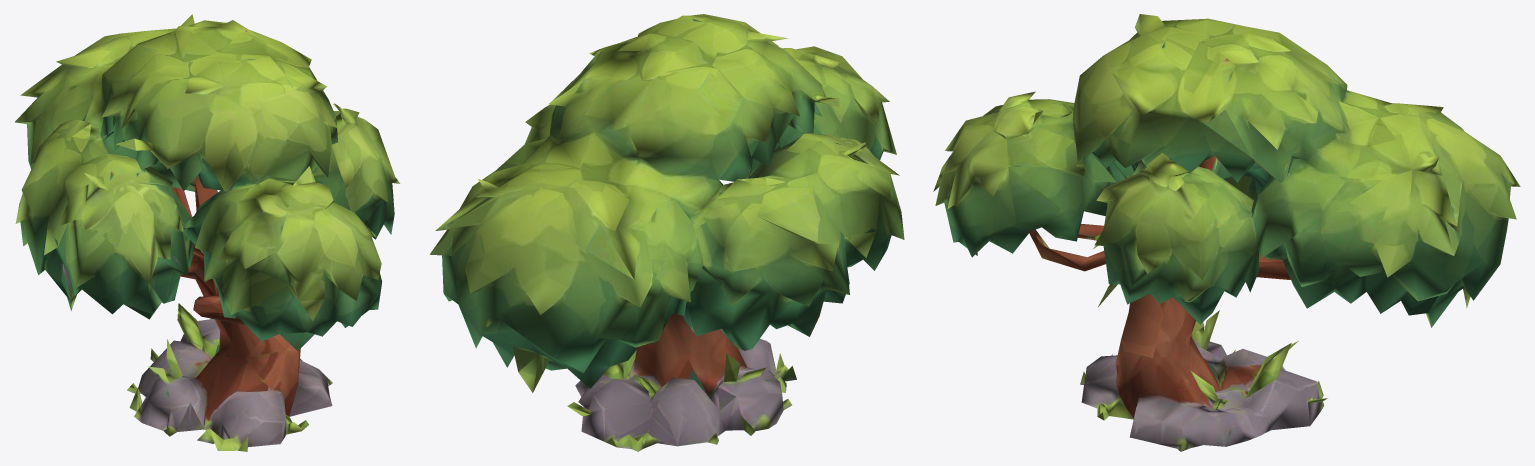
The model's file is tree_round.fbx.
3 views of the same model, side by side, from view 1: azimuth 30°, elevation 25°; view 2: azimuth 150°, elevation 25°; view 3: azimuth 270°, elevation 25° (orthographic). The views are drawn at different scales.
Parts seen in each view (by area): view 1: tree_round; view 2: tree_round; view 3: tree_round.
Boxes of the visible parts, x1,y1,x2,y2 form: tree_round: (15, 14, 400, 451); tree_round: (430, 14, 904, 451); tree_round: (933, 14, 1520, 451).
Bounding box in the file's own units: 3.51 × 3.5 × 5.11.
1 material, 1 textured.
